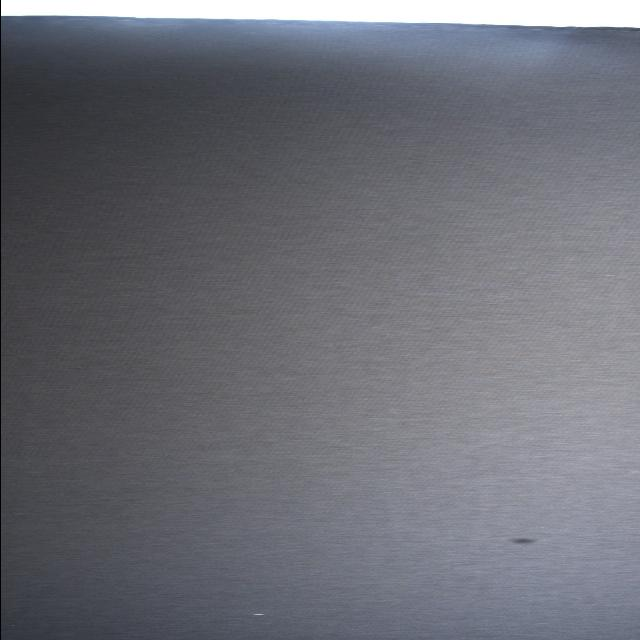whiteDefect: (248, 612, 278, 616)
